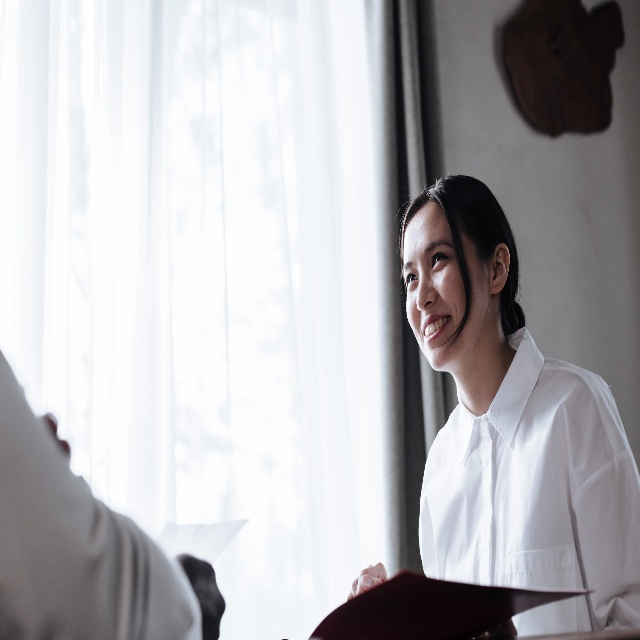Sin_guantes: (180, 552, 226, 640), (346, 561, 387, 604)
